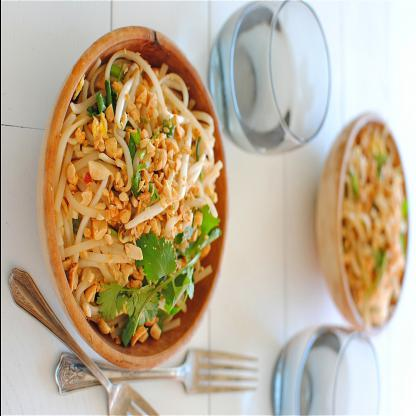Pad Thai: (38, 25, 222, 376), (316, 107, 406, 332)
